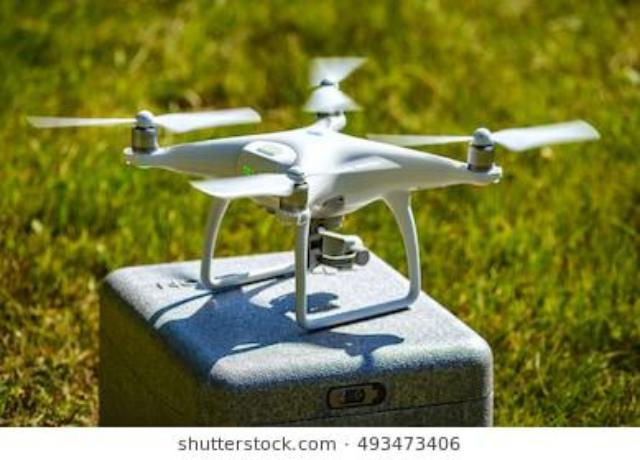drone: (0, 0, 640, 428)
